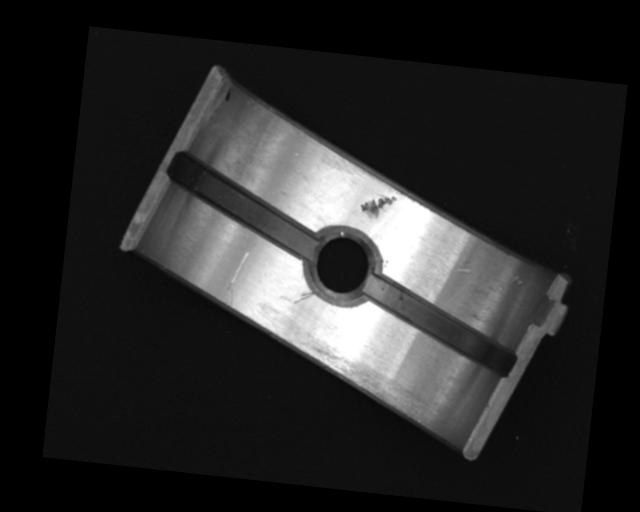blot: (224, 87, 232, 102)
bruise: (359, 193, 398, 222), (451, 265, 473, 276)
gap: (161, 153, 323, 260), (359, 277, 524, 377)
hole: (301, 222, 381, 308)
nick: (226, 241, 258, 312), (293, 289, 315, 306)
scratch: (276, 328, 433, 425)
